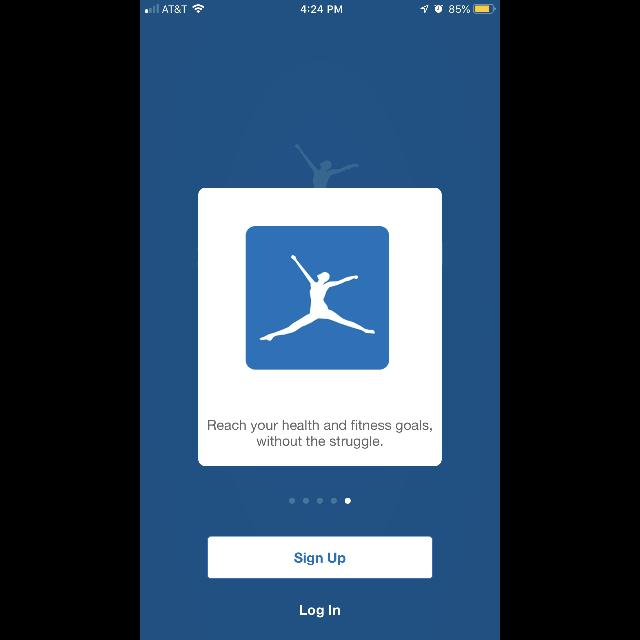image: (246, 226, 390, 370), (295, 144, 359, 188)
pageindicator: (289, 498, 351, 504)
text: (208, 419, 432, 448), (300, 604, 340, 618)
textbutton: (207, 535, 433, 579)
uppertaskbar: (140, 0, 500, 14)
